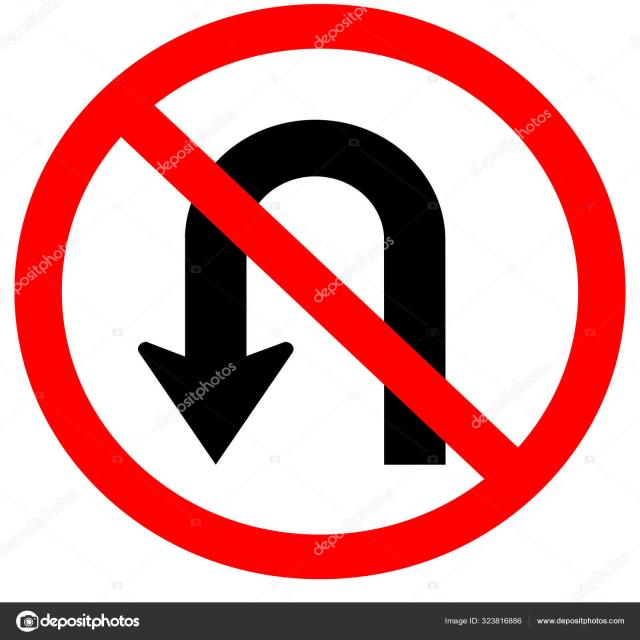Demi-Tour-Interdit: (58, 39, 568, 522)
